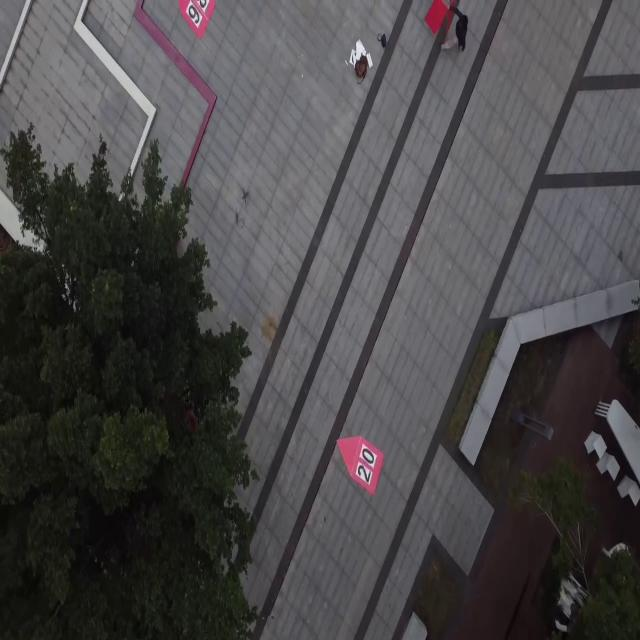-sign-: (336, 434, 384, 496), (179, 1, 216, 40)
